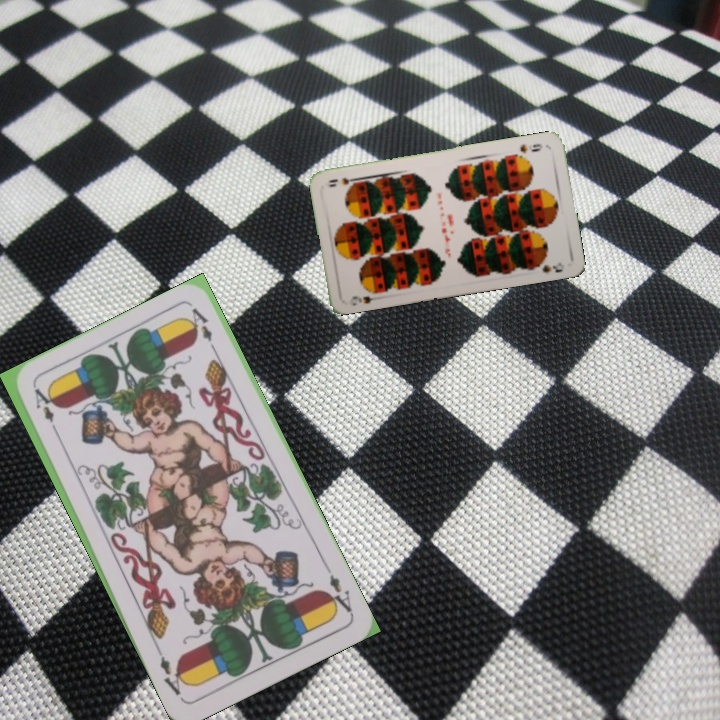EA: (322, 562, 356, 617), (30, 384, 62, 439)
S9: (348, 286, 384, 308), (516, 140, 545, 156)
